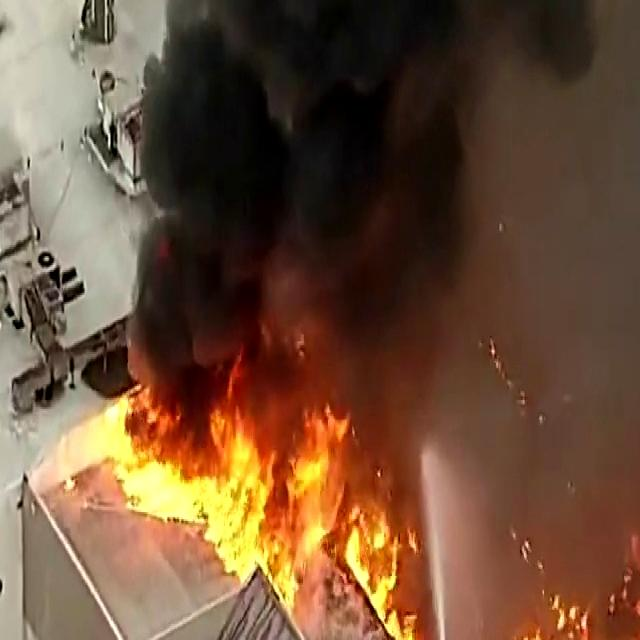fire: (248, 404, 438, 596), (115, 371, 264, 593)
smoke: (114, 0, 473, 359)
